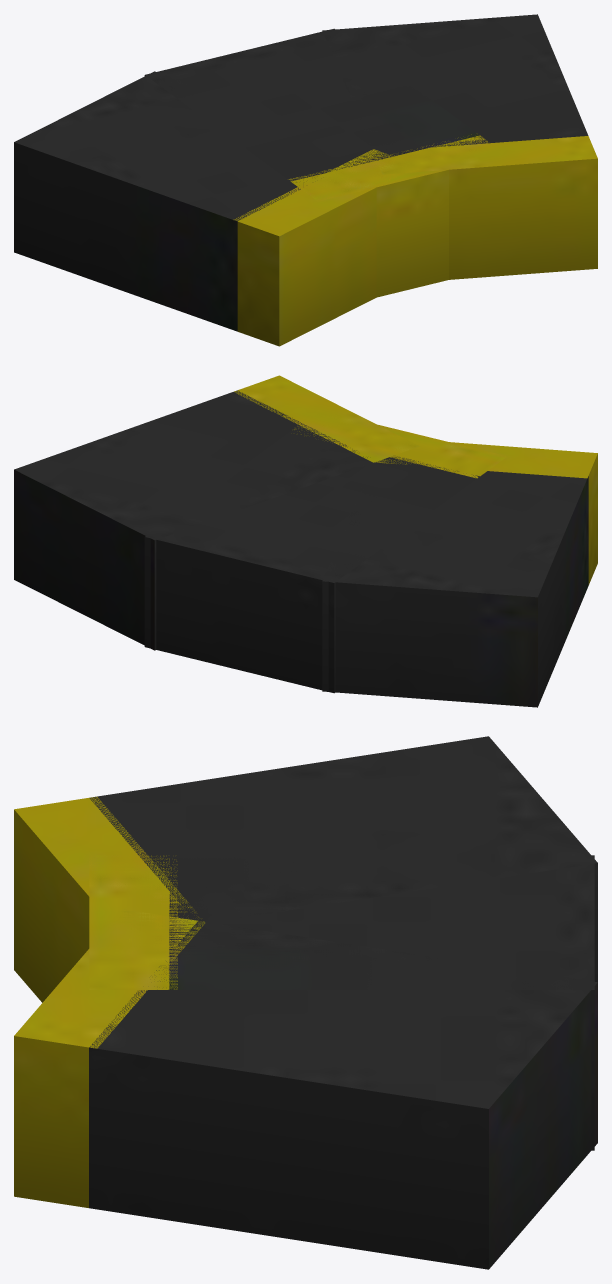
Rendered from firearm-magazine.glb.
The picture shows the model from 3 angles, top to bottom: view 1: azimuth 30°, elevation 25°; view 2: azimuth 150°, elevation 25°; view 3: azimuth 270°, elevation 25°; orthographic projection. The views are drawn at different scales.
Visible parts, largest first — view 1: firearm-magazine; view 2: firearm-magazine; view 3: firearm-magazine.
Boxes of the visible parts, x1=… form: firearm-magazine: x1=14, y1=14, x2=597, y2=346; firearm-magazine: x1=14, y1=375, x2=597, y2=707; firearm-magazine: x1=14, y1=736, x2=597, y2=1269.
Bounding box in the file's own units: 0.2487 × 0.05 × 0.1647.
1 material, 1 textured.
